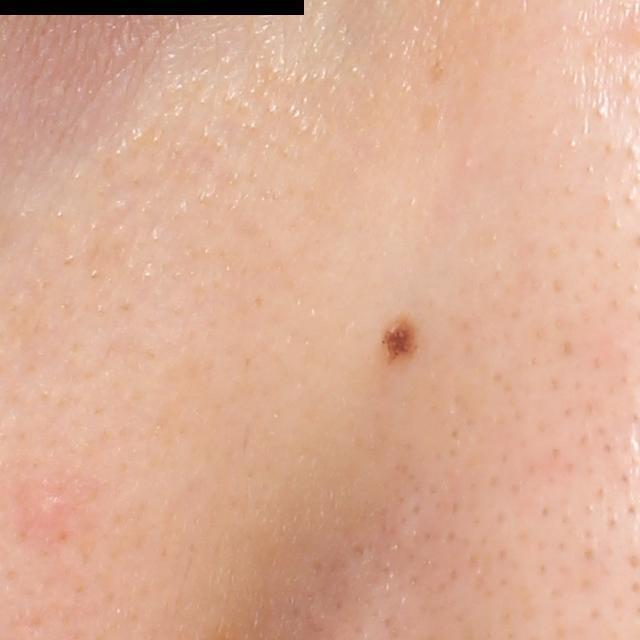nevus: (376, 314, 422, 371)
